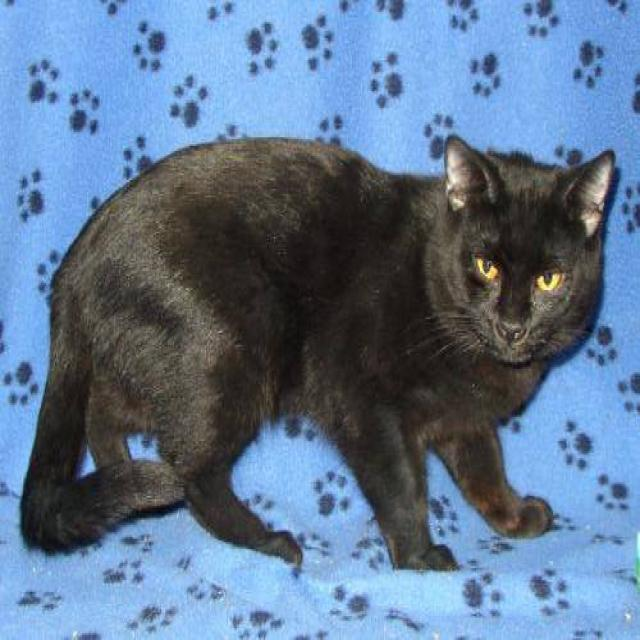cat: (18, 130, 616, 573)
